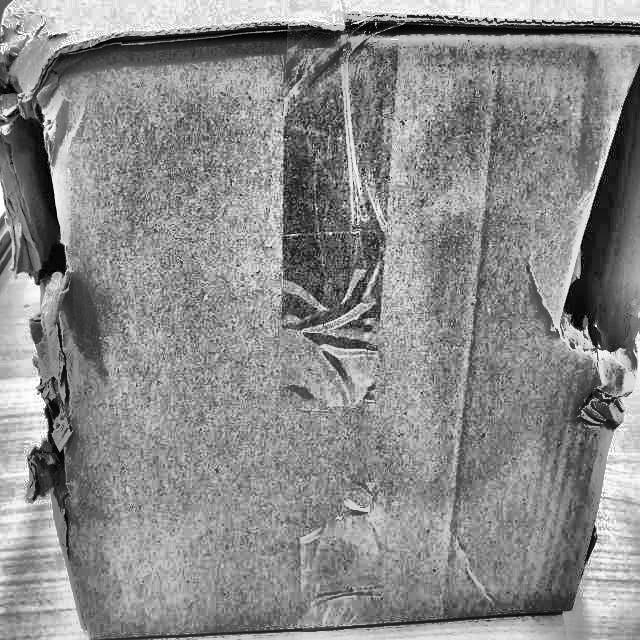box: (1, 0, 639, 639)
hole: (556, 17, 640, 383), (2, 48, 80, 417)
